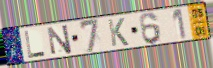1: (170, 8, 188, 42)
6: (138, 11, 162, 46)
7: (78, 17, 101, 54)
K: (106, 17, 130, 48)
L: (23, 29, 47, 59)
N: (46, 23, 74, 56)
